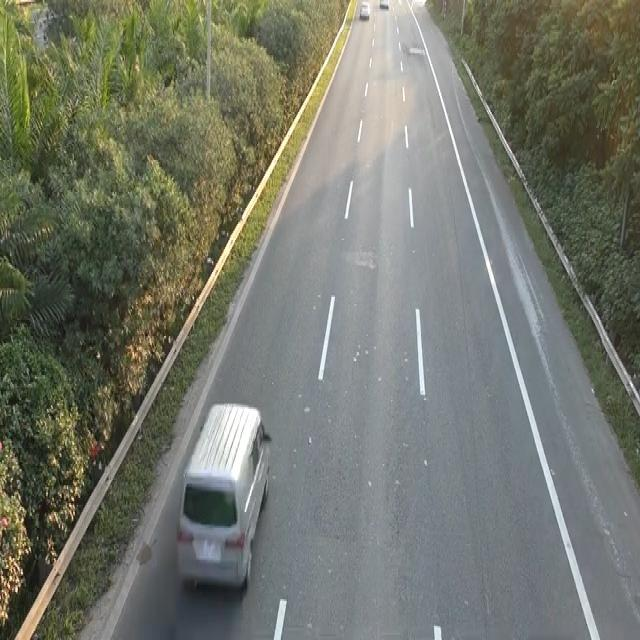lorry: (174, 396, 271, 594)
